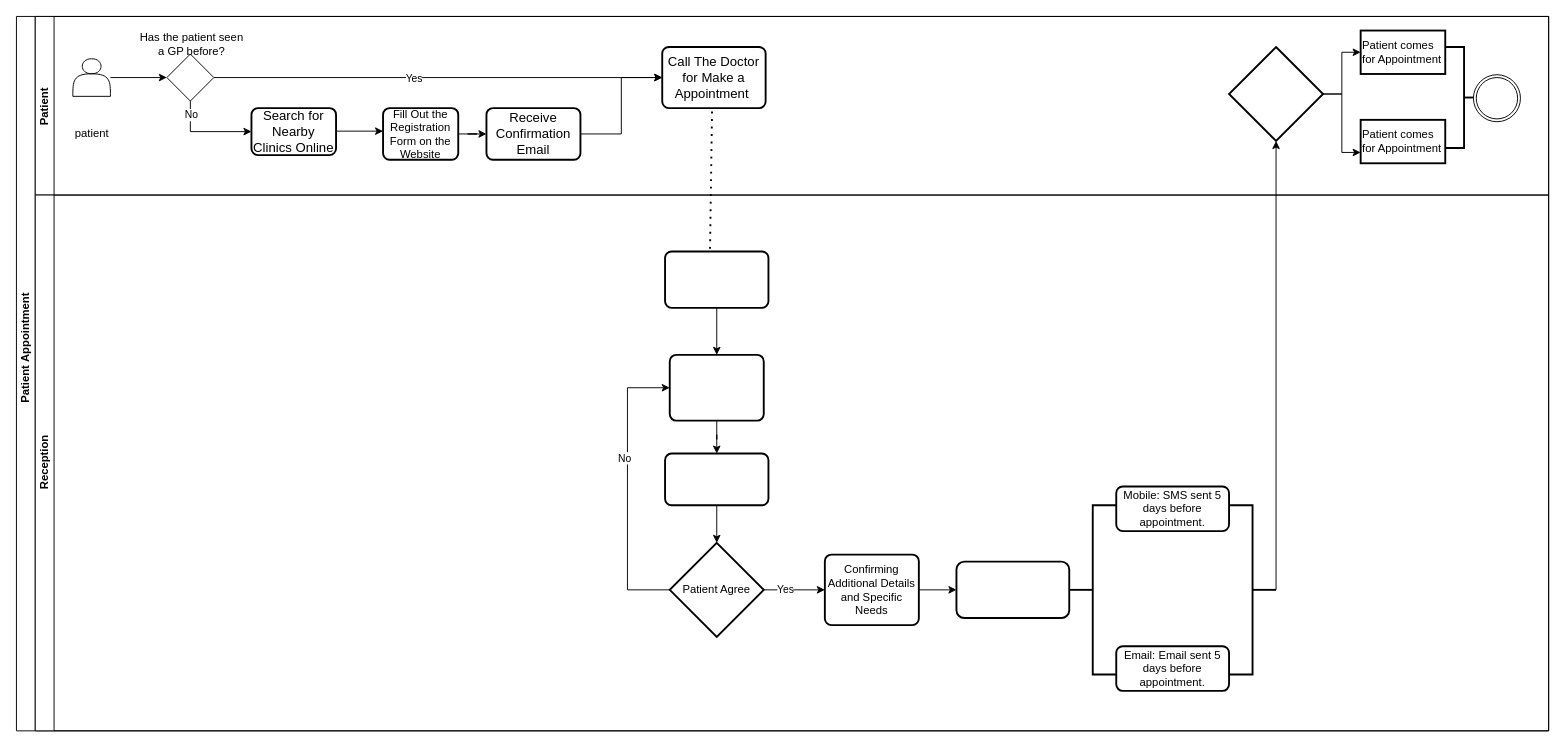
This 1565x747 diagram has some shape labels left out. The shapes that lost their labels are listed below. From the top down, each one's centre as x and y in pixels, then its label:
[1276,93]: send the message
[1496,98]: End
[716,279]: Ask about the patient's basic condition and Information
[716,387]: Operator checks for preferred time slot
[716,479]: If unavailable, offers next best slot.
[1012,589]: Communication mode chosen
